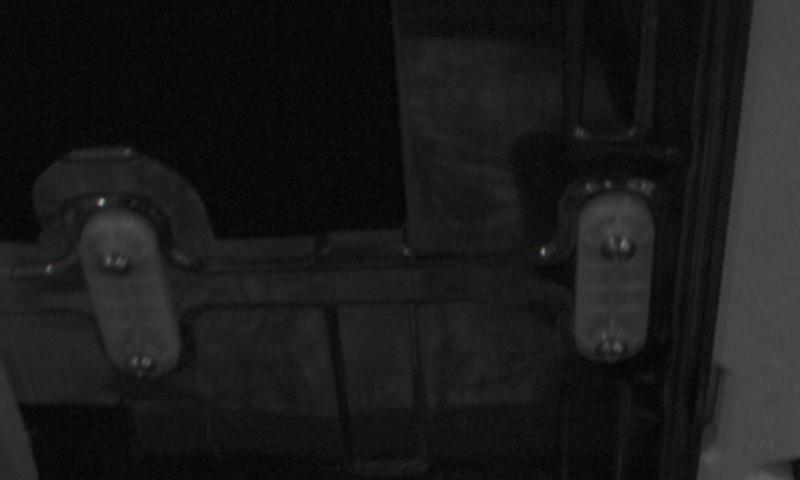vida-ok: (601, 227, 644, 272), (96, 243, 136, 288), (123, 347, 166, 387), (593, 330, 633, 368)
